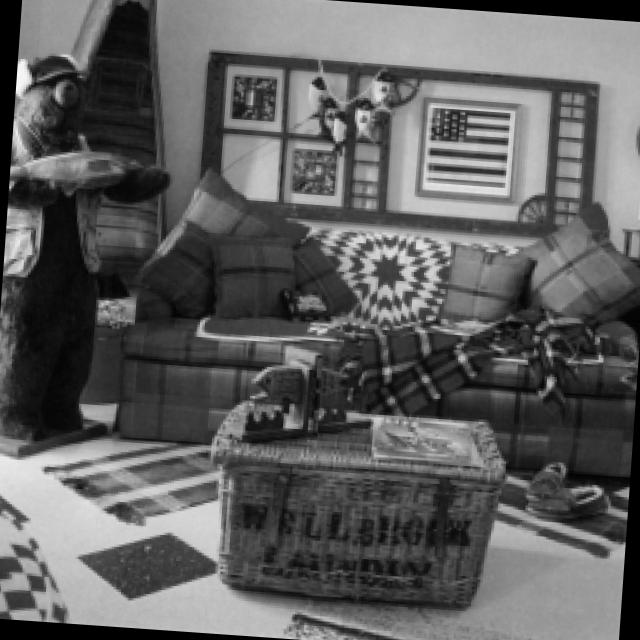basket: (208, 400, 500, 601)
blanket: (307, 309, 592, 414)
boat: (66, 0, 161, 398)
decorative wall hanging: (308, 62, 397, 141)
lamp crop: (620, 192, 640, 260)
magazine holder: (368, 414, 481, 462)
painting crop: (414, 97, 516, 198), (287, 142, 332, 193), (229, 71, 271, 119)
pillow occluded: (123, 165, 302, 313), (503, 199, 639, 319), (0, 496, 71, 618), (436, 236, 533, 320), (207, 232, 293, 318), (292, 234, 362, 316)
rack: (190, 44, 597, 237)
rug -partially obscured-: (39, 440, 217, 528), (492, 468, 624, 552), (76, 530, 215, 597)
slippers: (526, 459, 610, 515)
sofa bed: (109, 167, 639, 474)
statue: (0, 53, 165, 457), (220, 352, 366, 442)
